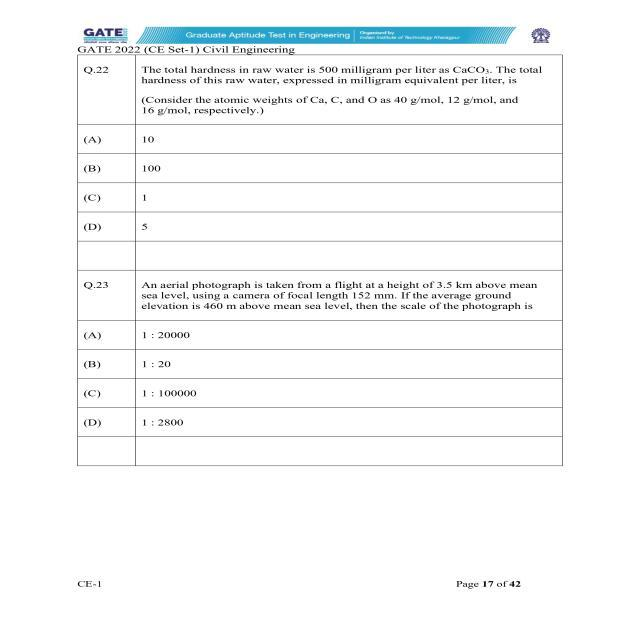Answer_Block: (77, 320, 560, 436), (78, 124, 562, 239)
Question_Answer_Block: (79, 56, 562, 240), (78, 270, 562, 436)
Question_Block: (81, 56, 562, 125), (78, 270, 562, 319)
Question_Paper_Area: (78, 56, 562, 467)
